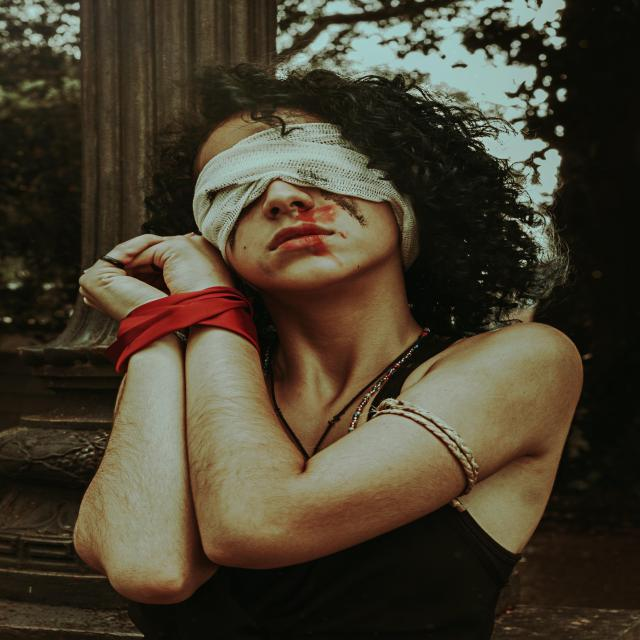flood: (266, 203, 366, 260)
